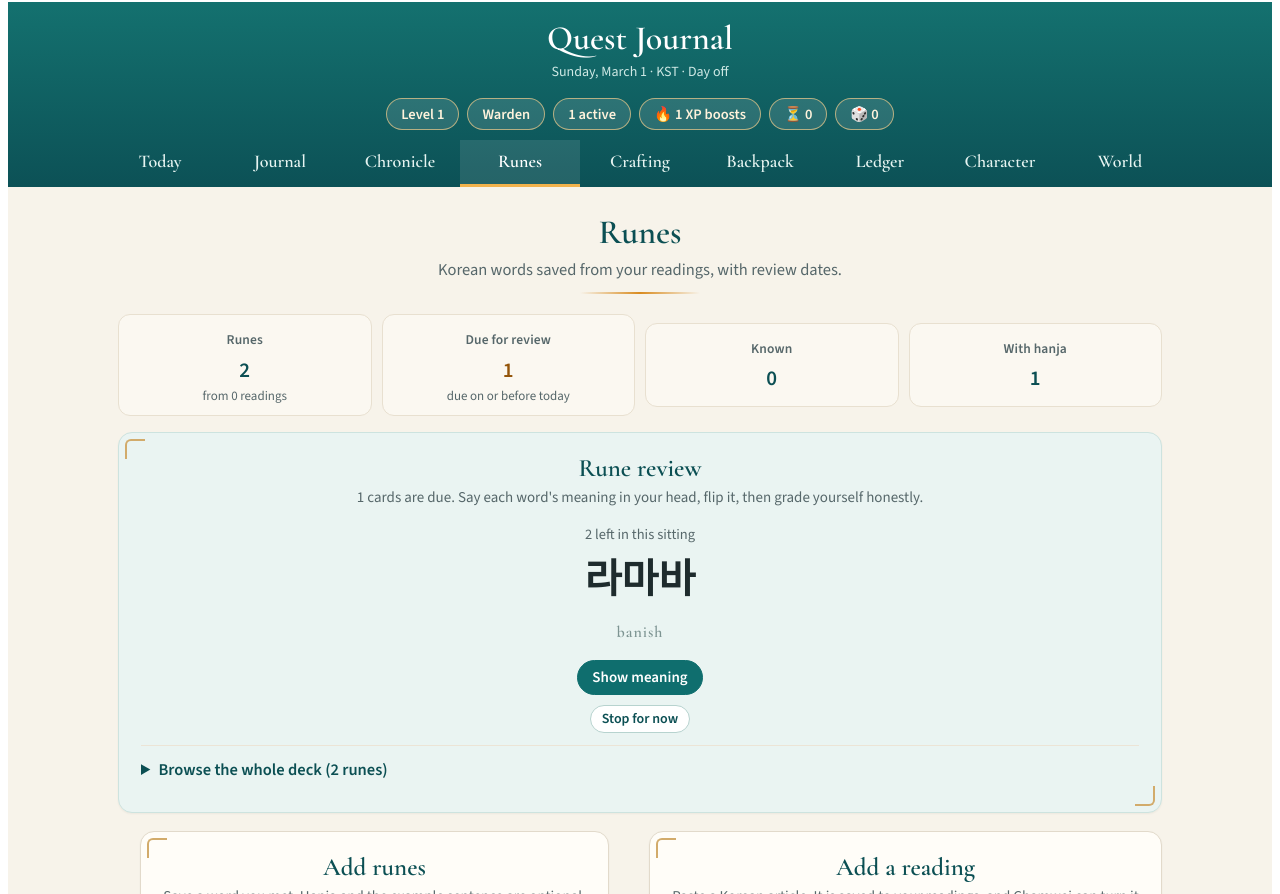
Test: rune delete › does not bring an again-card back after it is banished
The image size is (1280, 894).
Earlier steps of the test are not shown.
Expected: the text with class "rvword" reads "라마바", [585,553,695,606]
Step 1. Click the heading "Browse the whole deck (2 runes)" → (273, 769), box [158,758,388,780]
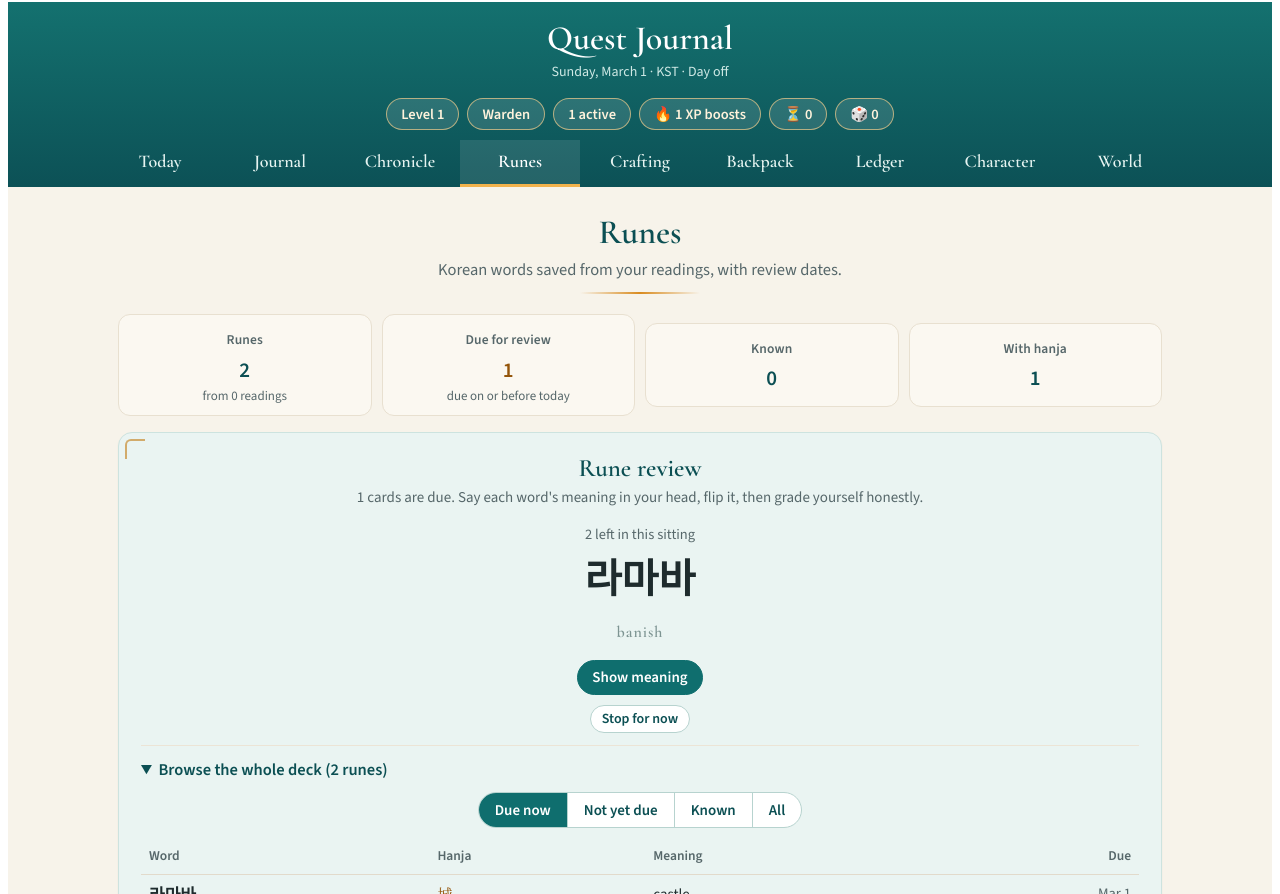
Step 2. Click the button "All" → (777, 810), box [752,793,801,827]
(page scrolled)
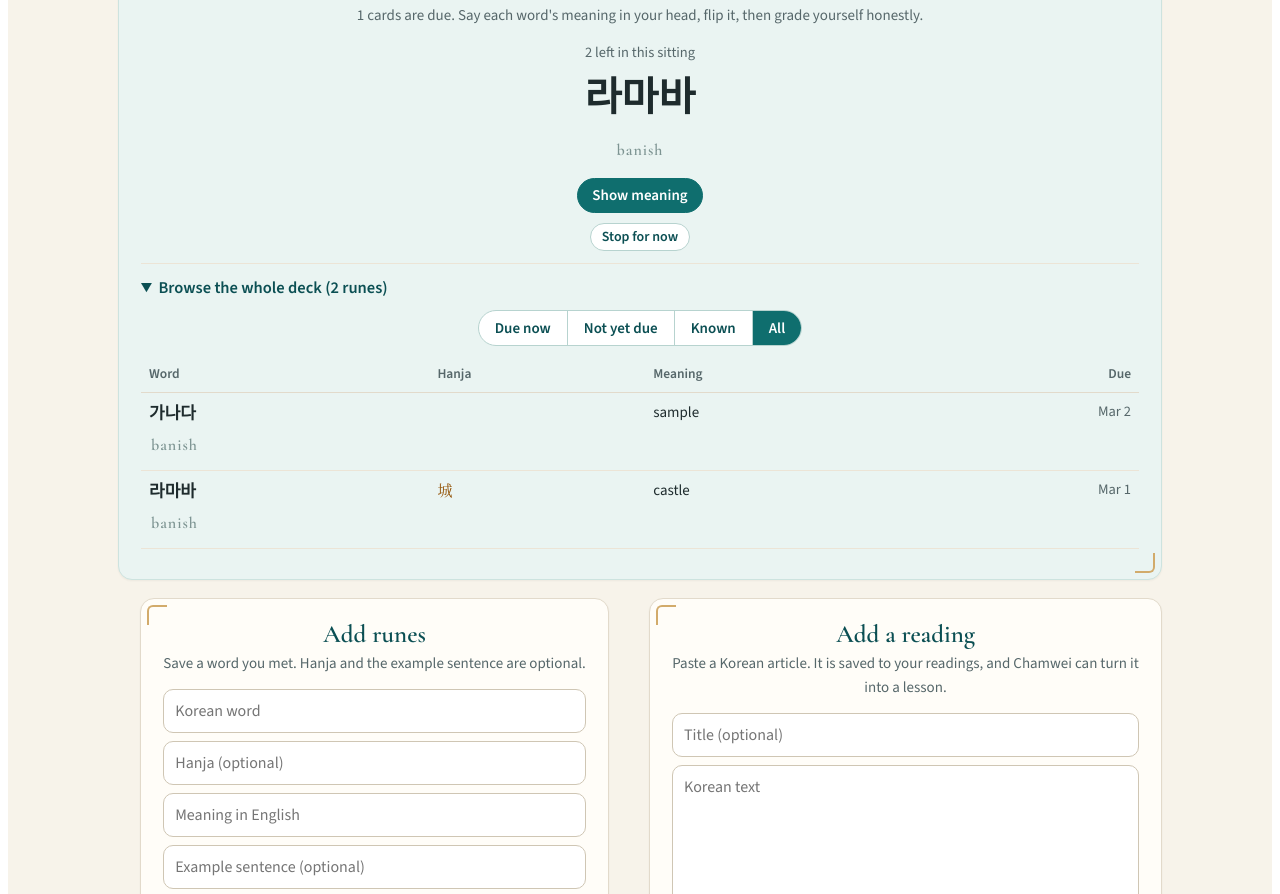
Step 3. Click the button with aria-label "Banish 가나다" → (174, 445), box [149,427,200,463]
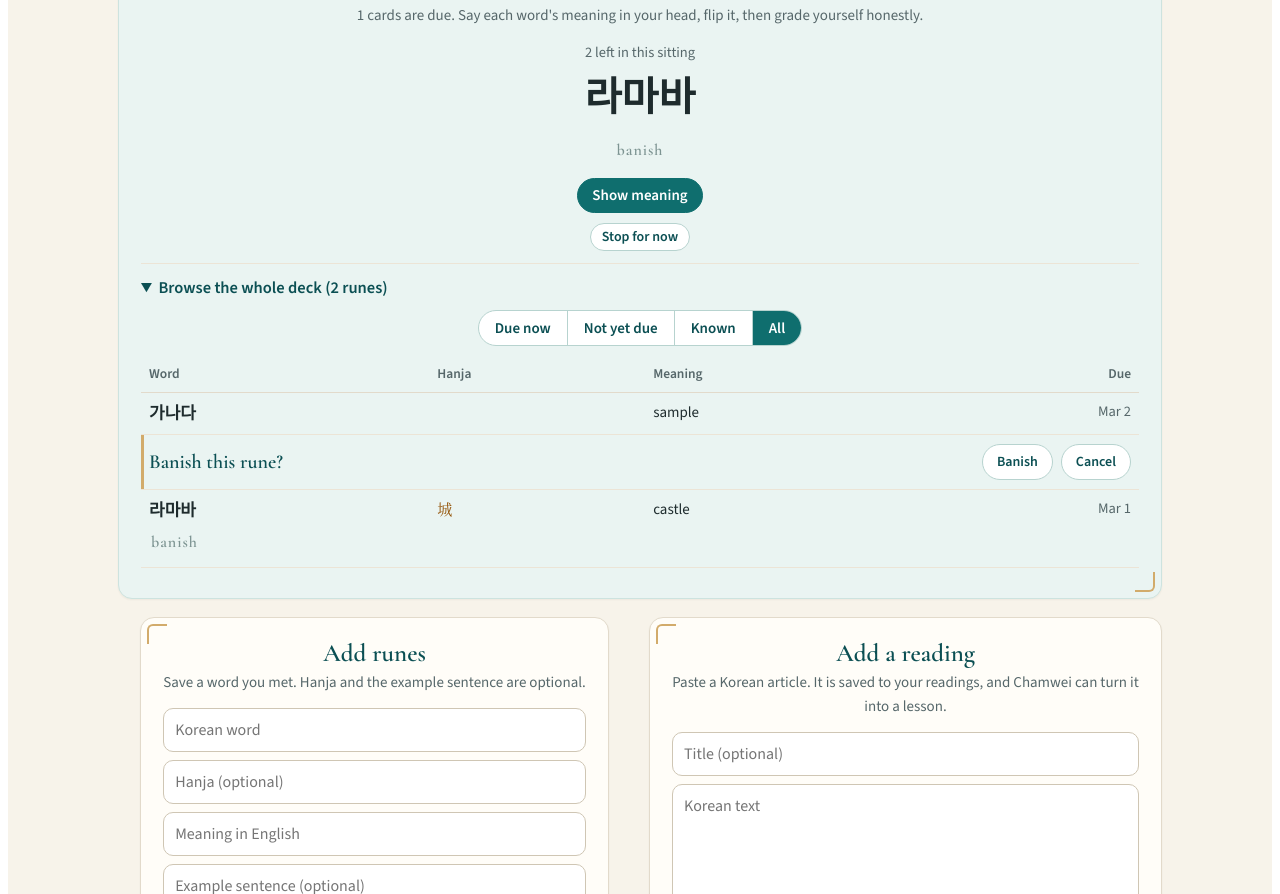
Step 4. Click the button "Banish" → (1017, 462), box [982,444,1053,480]
(page scrolled)
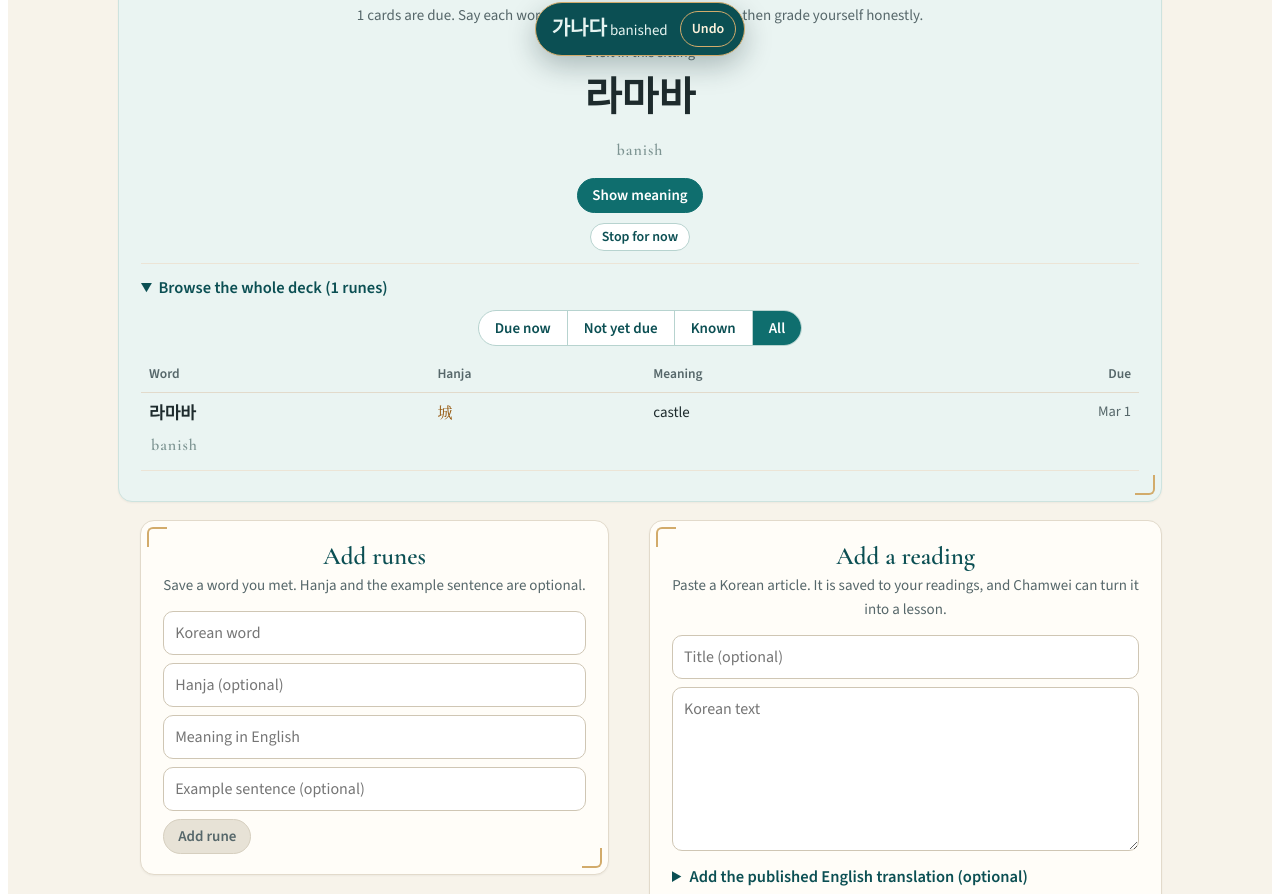
Result: the text "1 left in this sitting" is shown at [585,41,695,64]
Step 5. Click the button "Show meaning" → (640, 196), box [577,178,703,213]
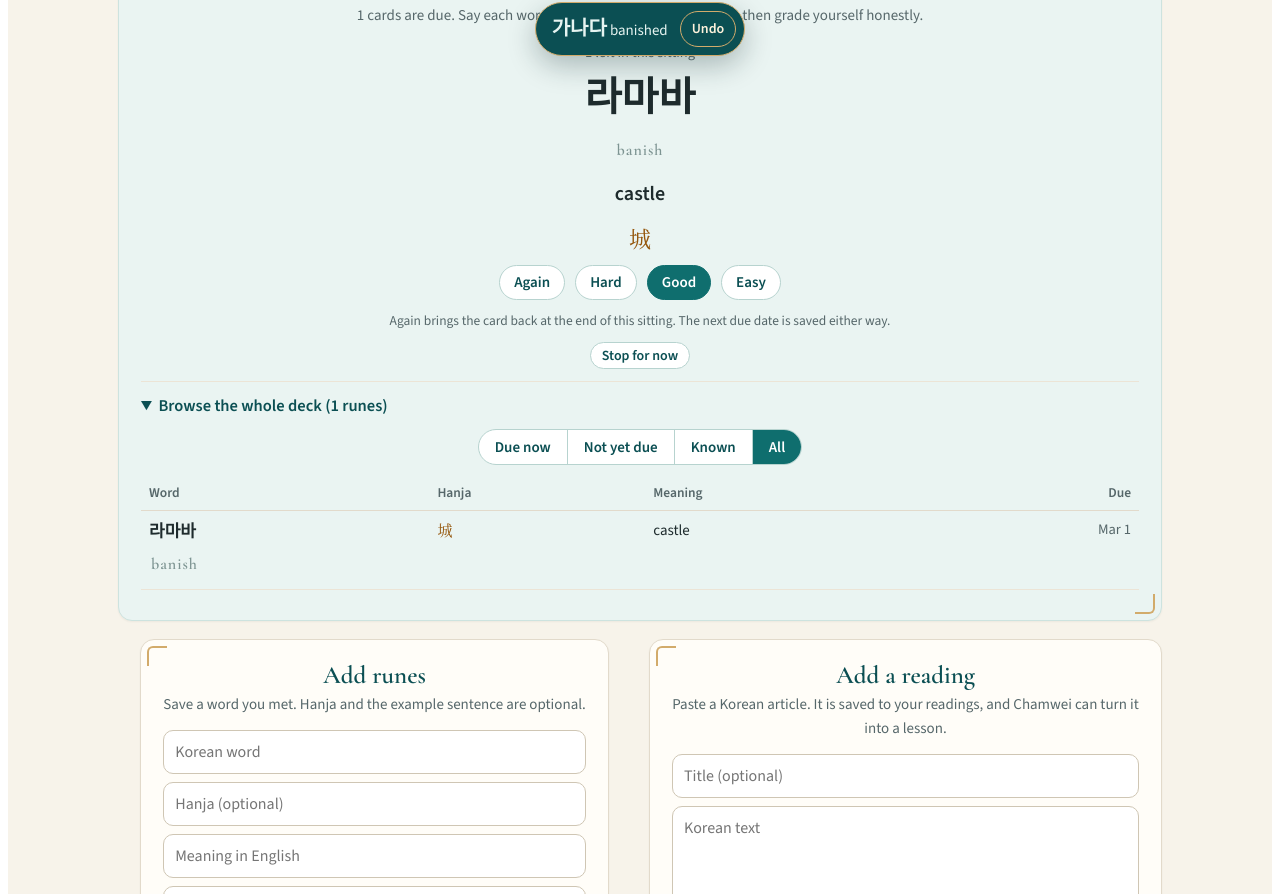
Step 6. Click the button "Good" → (679, 283), box [647,265,711,300]
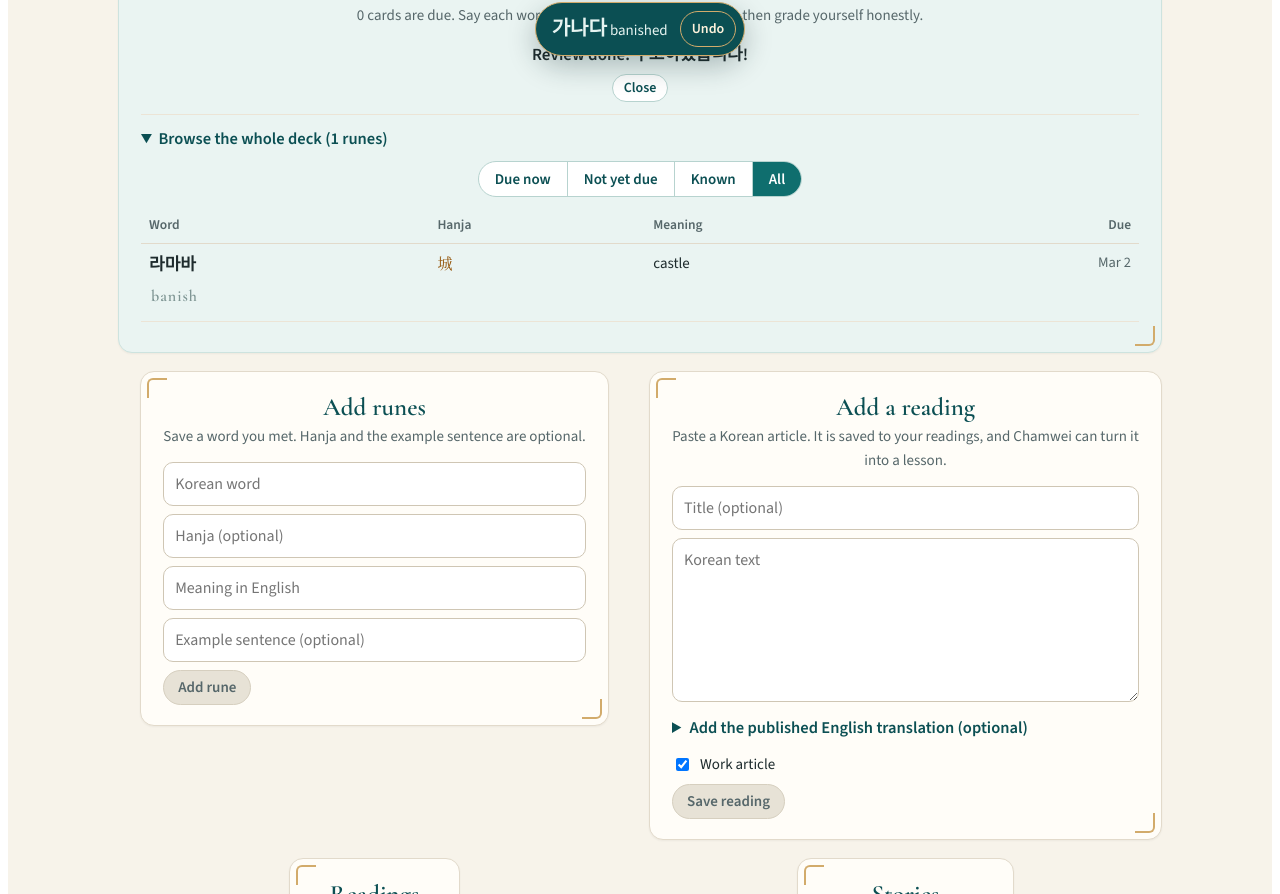
Result: the text "Review done. 수고하셨습니다!" is shown at [532,43,748,66]
